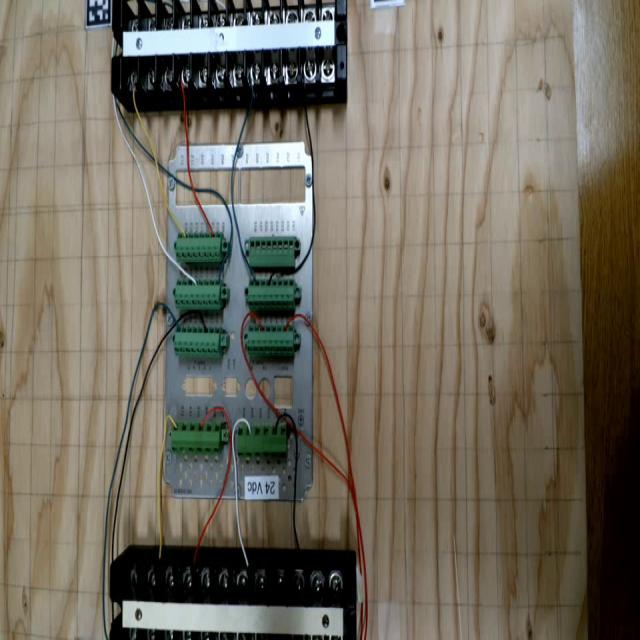Flathead_Block: (109, 565, 356, 639)
Phillips_Block: (111, 0, 347, 91)
Terminal_1: (171, 422, 220, 455), (237, 425, 286, 457)
Terminal_2: (248, 278, 294, 312), (174, 326, 221, 358), (247, 324, 294, 356), (174, 279, 221, 310), (176, 232, 222, 262)
